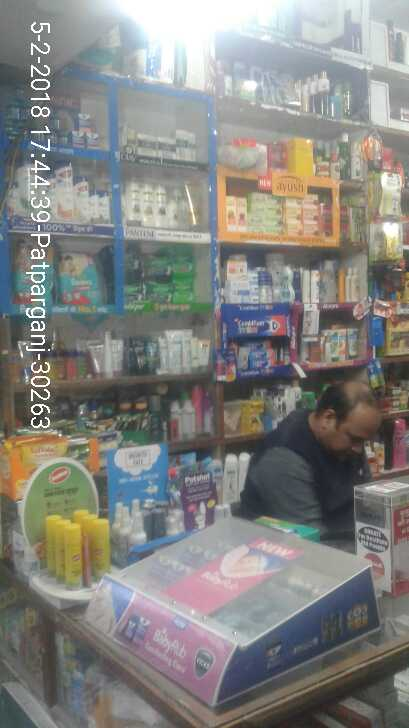beauty: (54, 161, 72, 221), (18, 163, 34, 219), (125, 177, 140, 223), (72, 178, 88, 221), (3, 182, 19, 221), (39, 179, 54, 220), (142, 183, 154, 226), (138, 132, 158, 157), (156, 187, 167, 228), (158, 139, 177, 157), (171, 191, 180, 228), (98, 192, 108, 221), (90, 191, 97, 220), (186, 139, 196, 157), (179, 130, 185, 159), (126, 130, 133, 152)
pharmacy: (10, 237, 56, 306), (60, 252, 101, 305), (128, 246, 145, 282), (176, 253, 198, 277), (148, 257, 173, 276), (150, 280, 171, 299), (176, 281, 197, 298), (77, 112, 90, 130), (128, 287, 142, 300), (71, 131, 83, 146), (86, 134, 99, 146)
